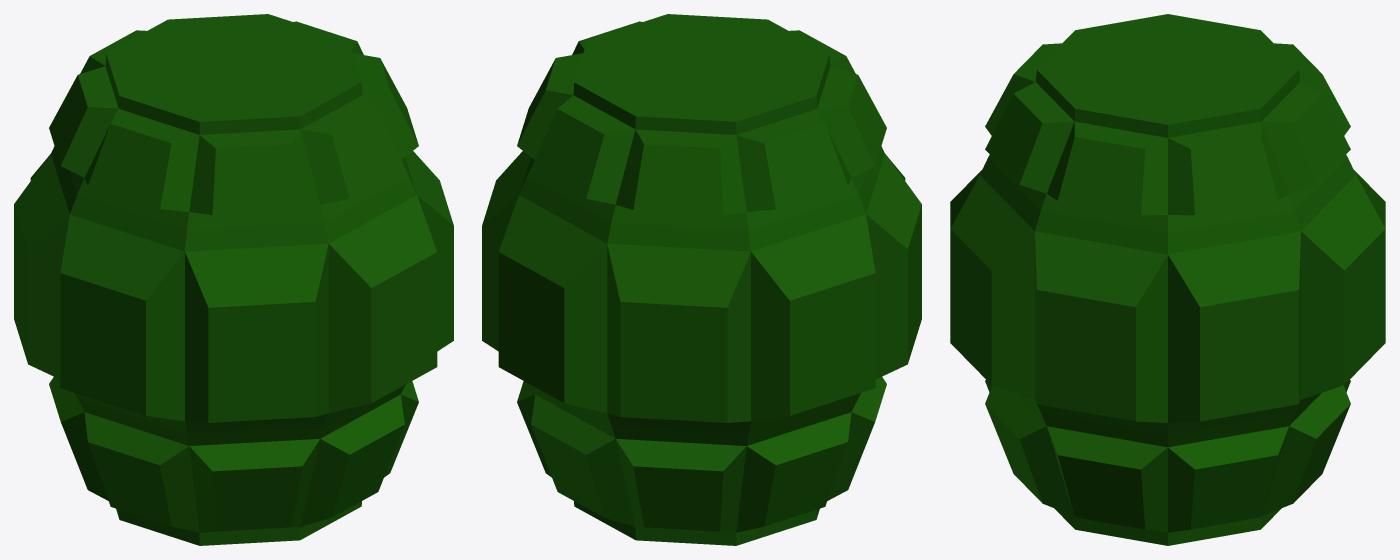
Rendered from grenade.fbx.
3 renders of one model, left to right at view 1: azimuth 30°, elevation 25°; view 2: azimuth 150°, elevation 25°; view 3: azimuth 270°, elevation 25°, orthographic.
Parts seen in each view (by area): view 1: grenade; view 2: grenade; view 3: grenade.
Boxes of the visible parts, box(x1,y1,x2,y2) form: grenade: box(14, 14, 453, 545); grenade: box(482, 14, 921, 545); grenade: box(950, 14, 1385, 545).
Size of the model in its own units: 173 by 185 by 173.
